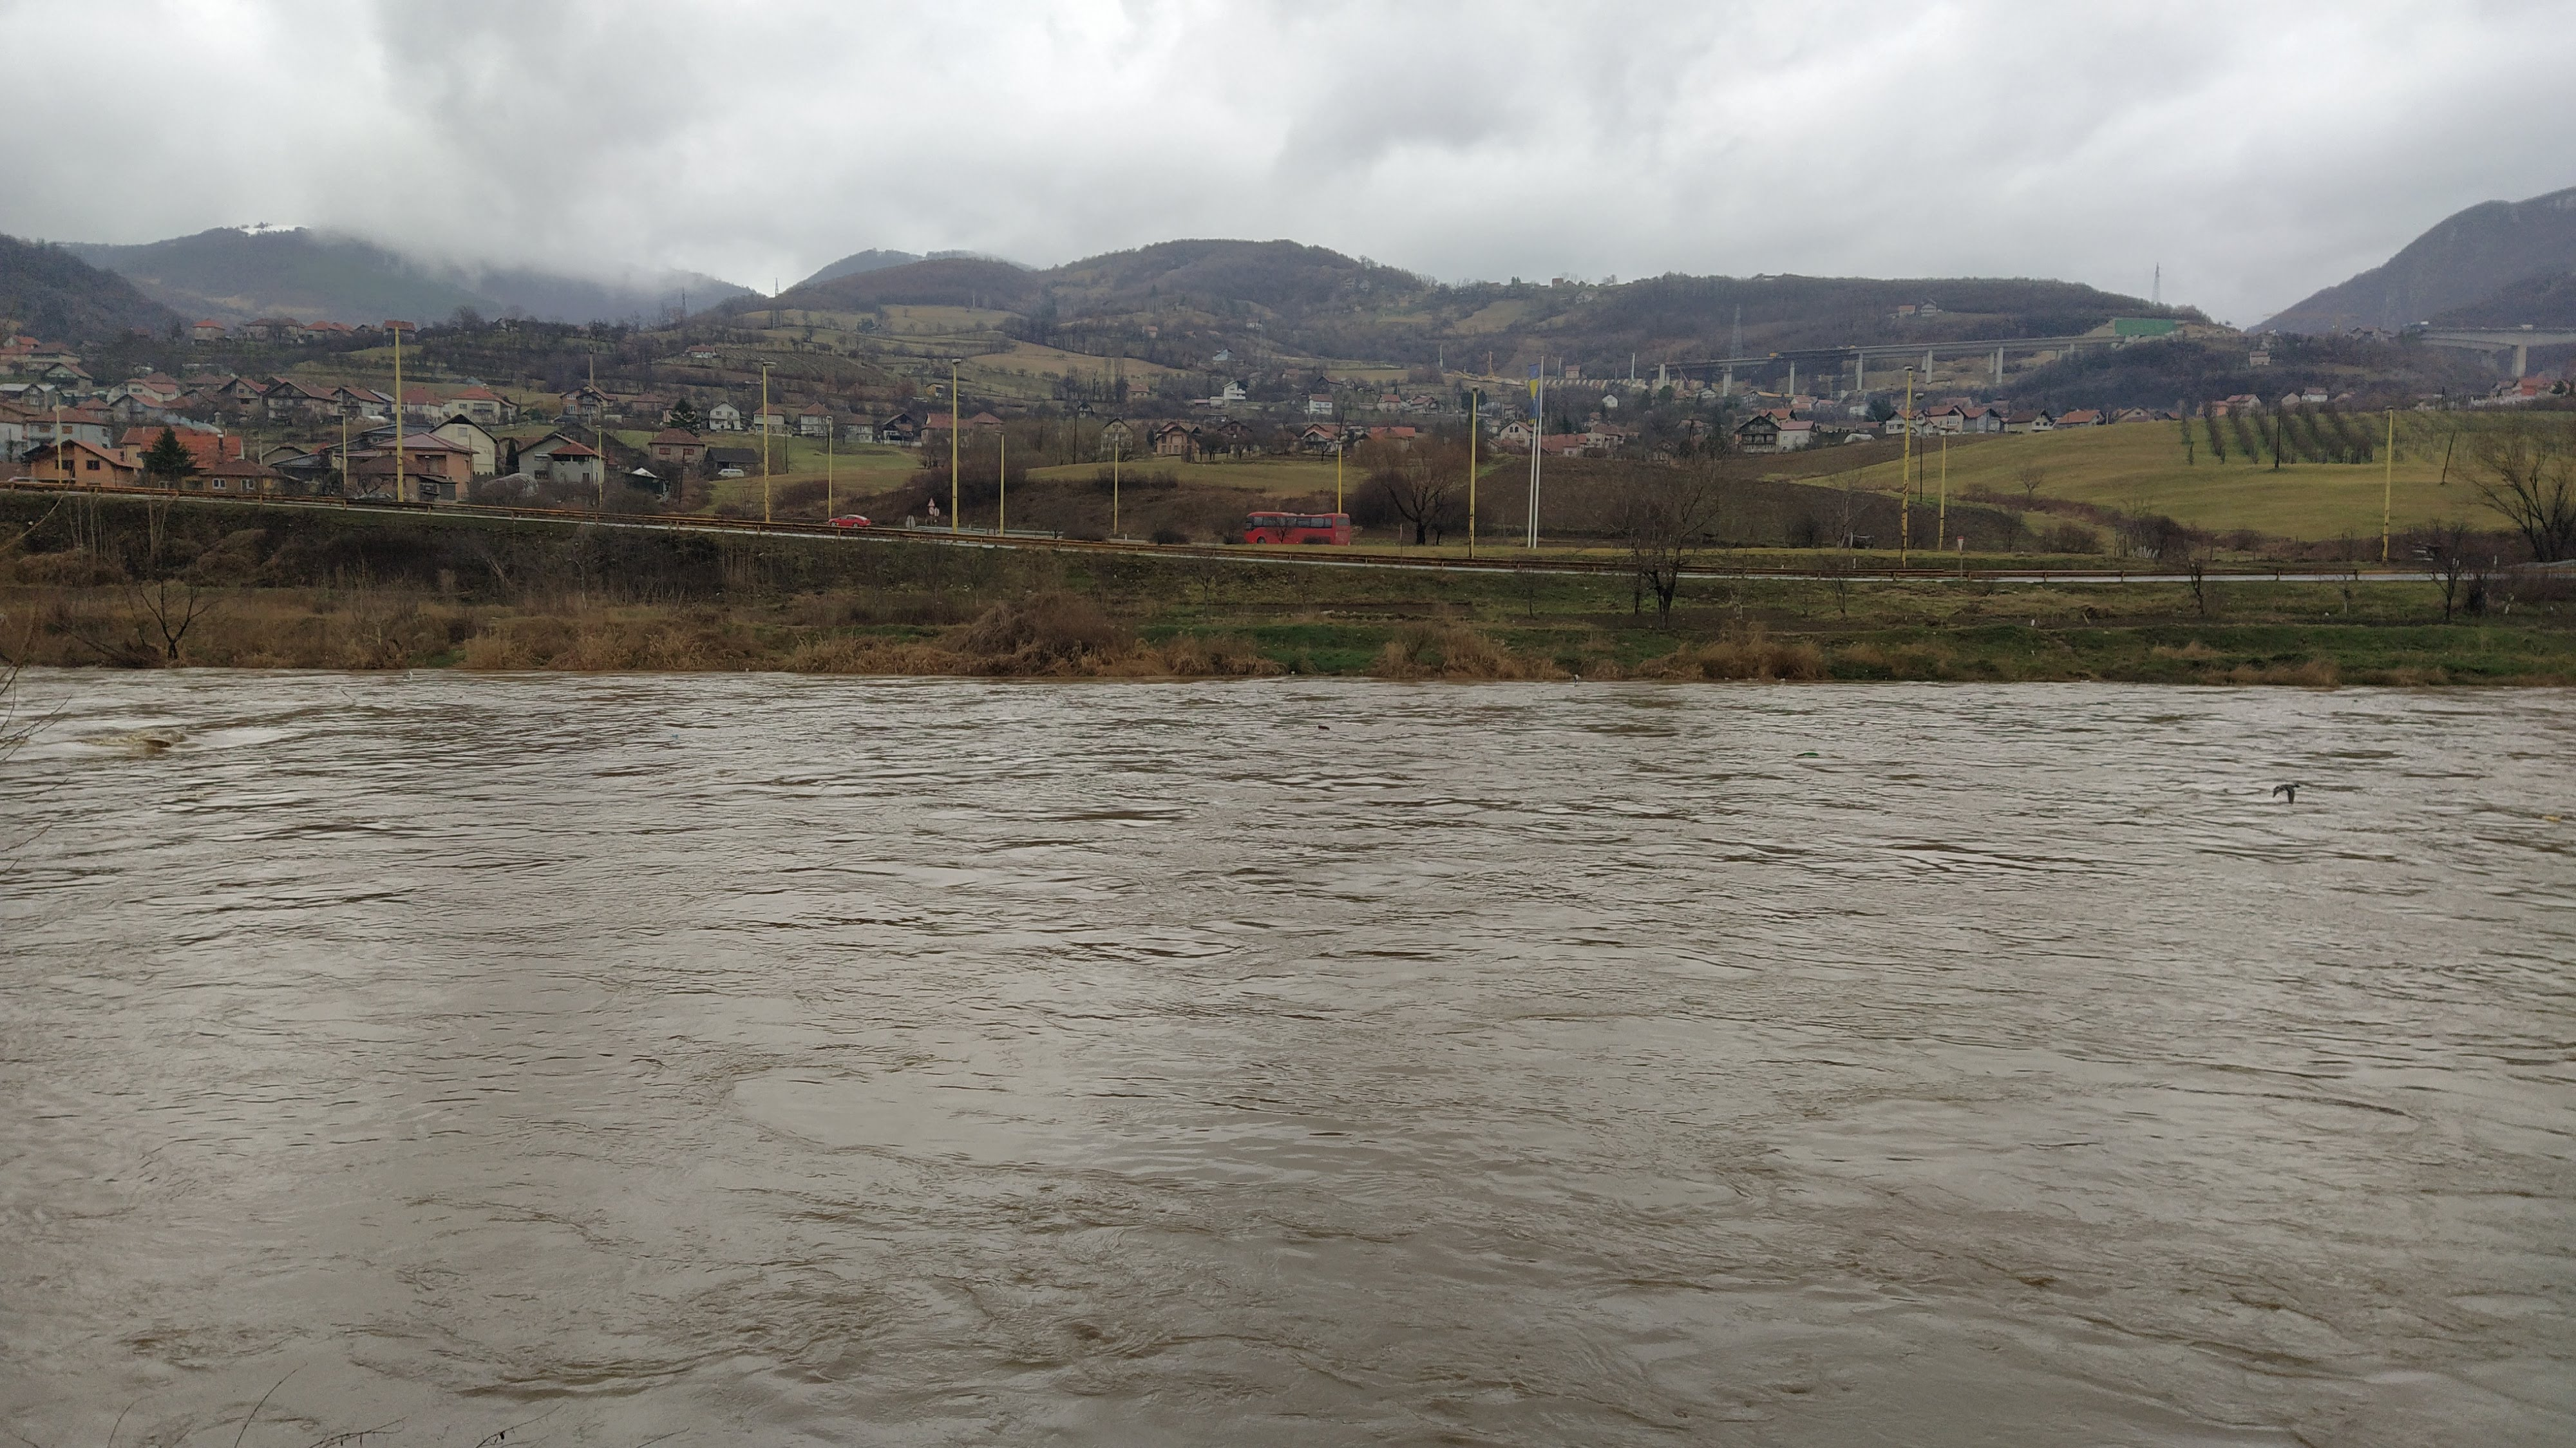Plastic Bottle: (1796, 751, 1819, 758), (2542, 814, 2560, 821), (1318, 724, 1330, 731), (672, 733, 679, 738)
